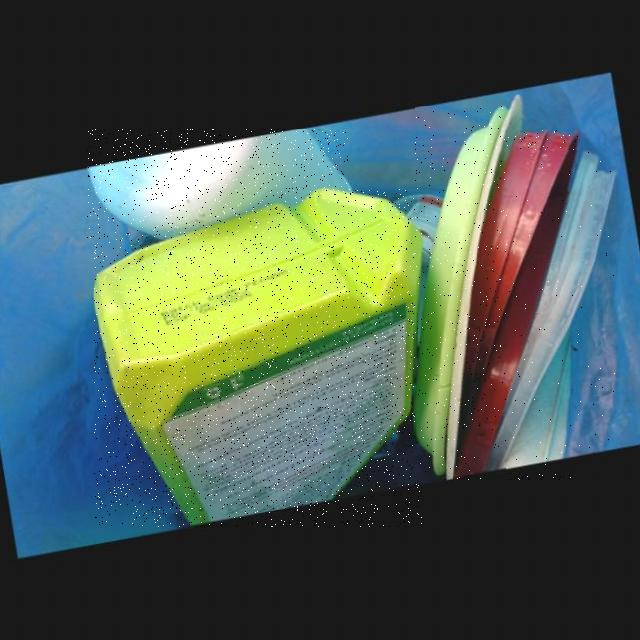plastic: (94, 189, 422, 527), (454, 130, 579, 480), (486, 151, 616, 474), (415, 107, 506, 477), (87, 129, 348, 239)
